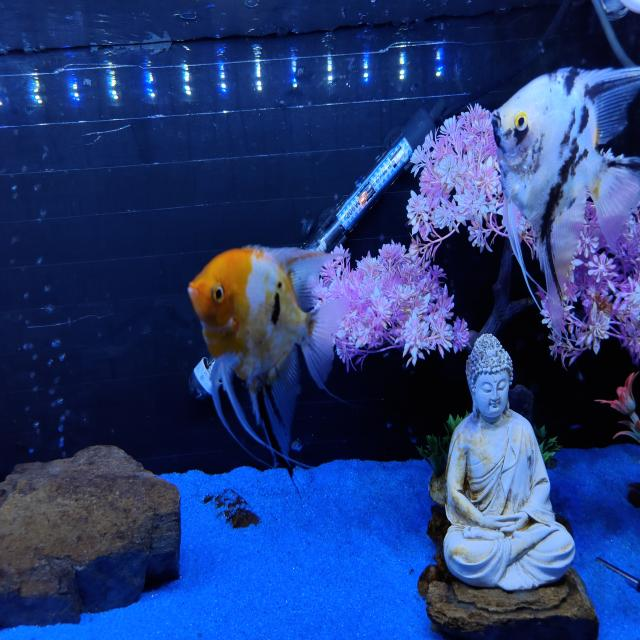Fish: (493, 68, 639, 334), (188, 247, 346, 465)
